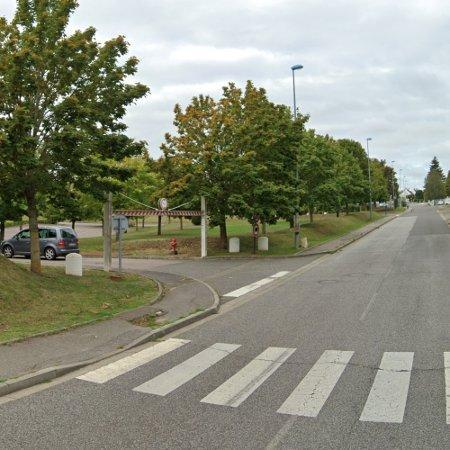crosswalk: (71, 336, 450, 426)
